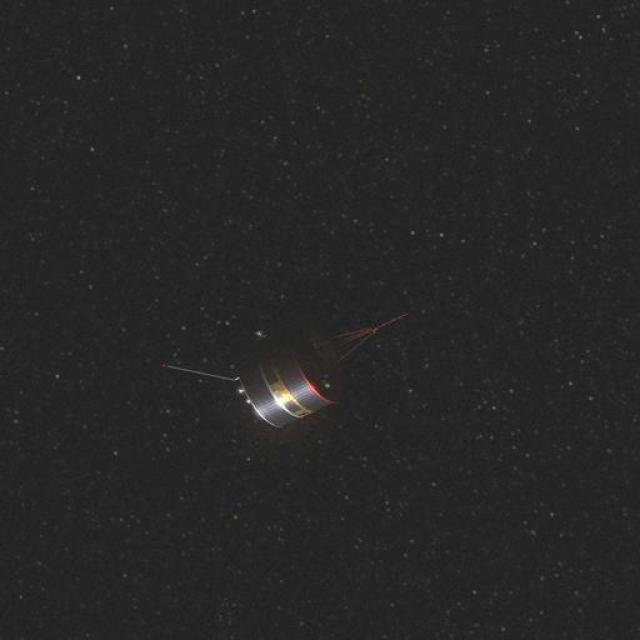double_start: (212, 291, 352, 432)
